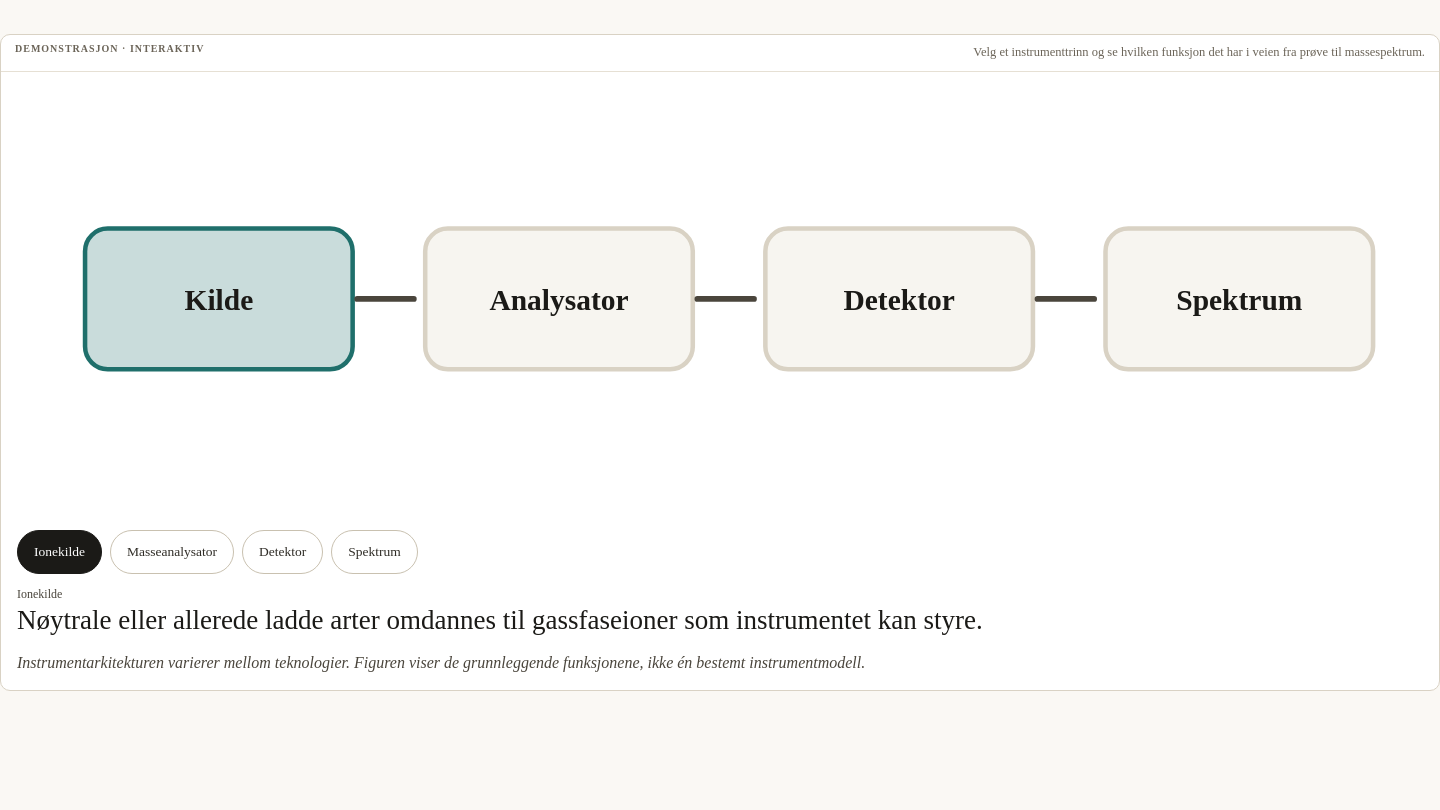
grafiske deteksjonsdemoer › massespektrometri: instrumenttrinn kan utforskes direkte
What coordinates should you click on to do the following:
click the button "Spektrum"
I would click on:
 (374, 552)
Its box is [331, 530, 418, 574].
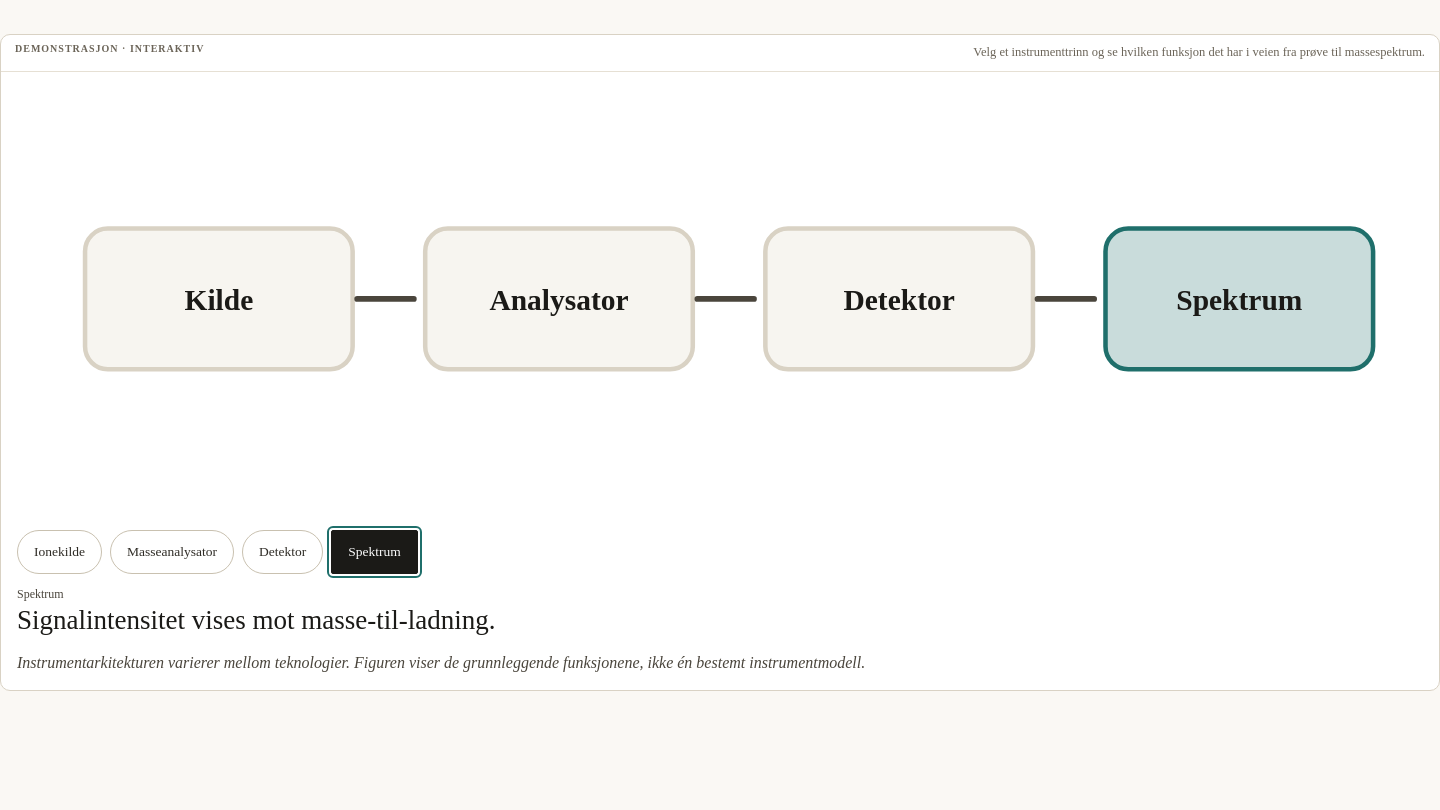
Check: the text "Signalintensitet vises mot masse-til-ladning." is shown, box [17, 605, 496, 635]
